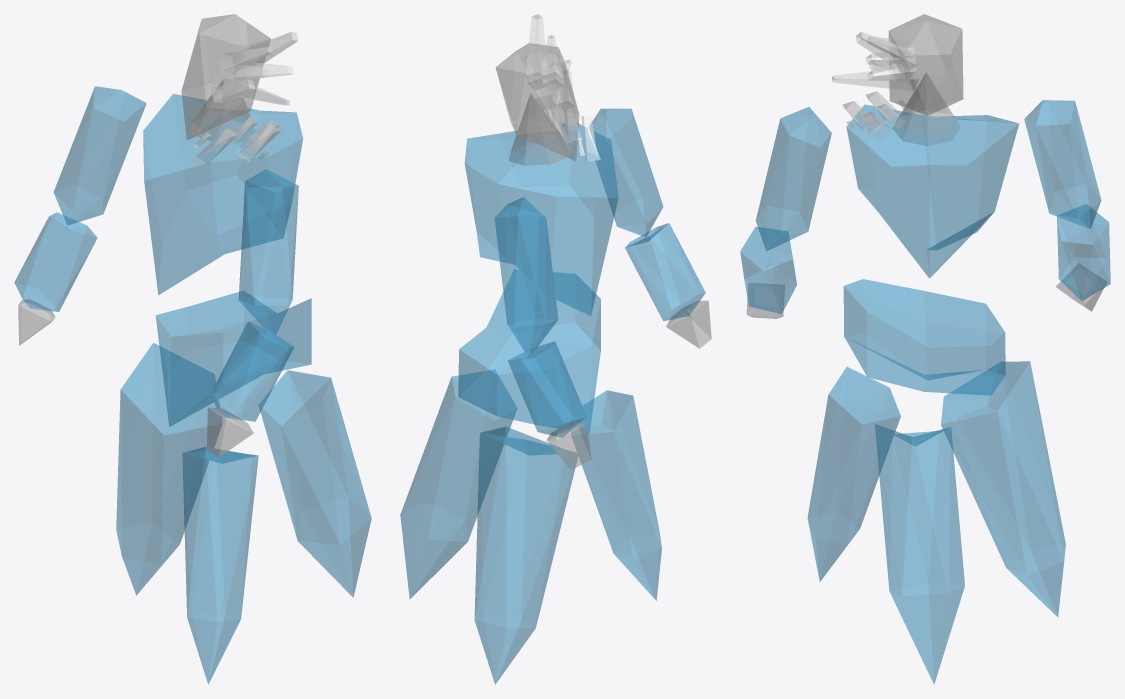
Rendered from ghostDistanceAttack6.obj.
3 views of the same model, side by side, from view 1: azimuth 30°, elevation 25°; view 2: azimuth 150°, elevation 25°; view 3: azimuth 270°, elevation 25° (orthographic). The views are drawn at different scales.
Visible parts, largest first — view 1: Cube.001_Cube.007, Icosphere.020, Icosphere.019, Cube_Cube.007, Icosphere.018, Icosphere.005_Icosphere.007, Icosphere.007_Icosphere.006, Icosphere.003_Icosphere.007, Icosphere.008_Icosphere.006, Icosphere.006_Icosphere.006, Cone_Cone.007, Cube.002_Cube.007 (+8 smaller); view 2: Cube.001_Cube.007, Icosphere.020, Cube_Cube.007, Icosphere.019, Icosphere.018, Icosphere.007_Icosphere.006, Icosphere.003_Icosphere.007, Icosphere.005_Icosphere.007, Icosphere.008_Icosphere.006, Icosphere.006_Icosphere.006, Cone_Cone.007, Cube.002_Cube.007 (+5 smaller); view 3: Cube.001_Cube.007, Icosphere.020, Icosphere.019, Cube_Cube.007, Icosphere.018, Icosphere.005_Icosphere.007, Icosphere.007_Icosphere.006, Icosphere.003_Icosphere.007, Icosphere.008_Icosphere.006, Icosphere.006_Icosphere.006, Cone_Cone.007, Cube.003_Cube.007 (+4 smaller).
Part boxes in pixels (x1=…): Cube.001_Cube.007: x1=143, y1=93, x2=303, y2=294; Icosphere.020: x1=116, y1=343, x2=222, y2=595; Icosphere.019: x1=259, y1=370, x2=371, y2=597; Cube_Cube.007: x1=156, y1=291, x2=311, y2=426; Icosphere.018: x1=182, y1=447, x2=258, y2=684; Icosphere.005_Icosphere.007: x1=238, y1=169, x2=298, y2=338; Icosphere.007_Icosphere.006: x1=53, y1=86, x2=146, y2=225; Icosphere.003_Icosphere.007: x1=181, y1=14, x2=270, y2=139; Icosphere.008_Icosphere.006: x1=14, y1=212, x2=97, y2=311; Icosphere.006_Icosphere.006: x1=210, y1=321, x2=294, y2=421; Cone_Cone.007: x1=189, y1=80, x2=255, y2=142; Cube.002_Cube.007: x1=207, y1=407, x2=253, y2=457; Cube.001_Cube.007: x1=464, y1=123, x2=618, y2=315; Icosphere.020: x1=474, y1=426, x2=578, y2=684; Cube_Cube.007: x1=458, y1=269, x2=600, y2=433; Icosphere.019: x1=400, y1=369, x2=516, y2=598; Icosphere.018: x1=571, y1=390, x2=661, y2=600; Icosphere.007_Icosphere.006: x1=494, y1=197, x2=558, y2=357; Icosphere.003_Icosphere.007: x1=495, y1=43, x2=579, y2=160; Icosphere.005_Icosphere.007: x1=589, y1=108, x2=663, y2=237; Icosphere.008_Icosphere.006: x1=508, y1=341, x2=586, y2=437; Icosphere.006_Icosphere.006: x1=625, y1=223, x2=705, y2=320; Cone_Cone.007: x1=509, y1=93, x2=569, y2=165; Cube.002_Cube.007: x1=666, y1=300, x2=711, y2=348; Cube.001_Cube.007: x1=846, y1=104, x2=1018, y2=278; Icosphere.020: x1=941, y1=361, x2=1065, y2=616; Icosphere.019: x1=875, y1=424, x2=964, y2=684; Cube_Cube.007: x1=843, y1=279, x2=1005, y2=395; Icosphere.018: x1=807, y1=367, x2=900, y2=581; Icosphere.005_Icosphere.007: x1=756, y1=107, x2=831, y2=251; Icosphere.007_Icosphere.006: x1=1024, y1=100, x2=1101, y2=228; Icosphere.003_Icosphere.007: x1=888, y1=14, x2=963, y2=115; Icosphere.008_Icosphere.006: x1=1057, y1=204, x2=1110, y2=300; Icosphere.006_Icosphere.006: x1=740, y1=226, x2=796, y2=314; Cone_Cone.007: x1=892, y1=72, x2=960, y2=145; Cube.003_Cube.007: x1=1055, y1=263, x2=1106, y2=311.
Bounding box in the file's own units: 21.2 × 47.51 × 26.07.
